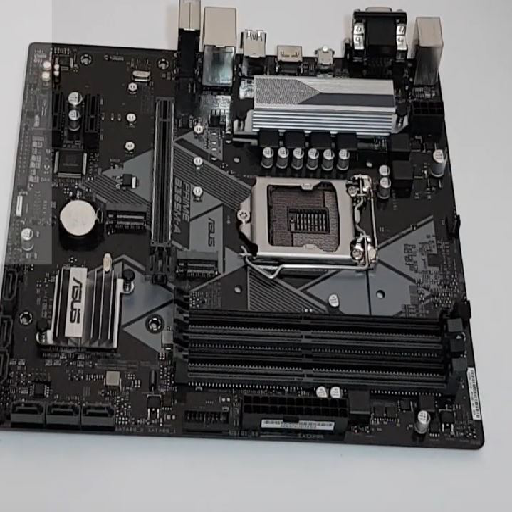CPU: (238, 175, 378, 269)
GPU: (171, 287, 467, 401), (144, 94, 177, 282)
MOTHERBOARD: (1, 41, 485, 451)
SSD: (99, 201, 149, 231), (174, 250, 221, 281)
